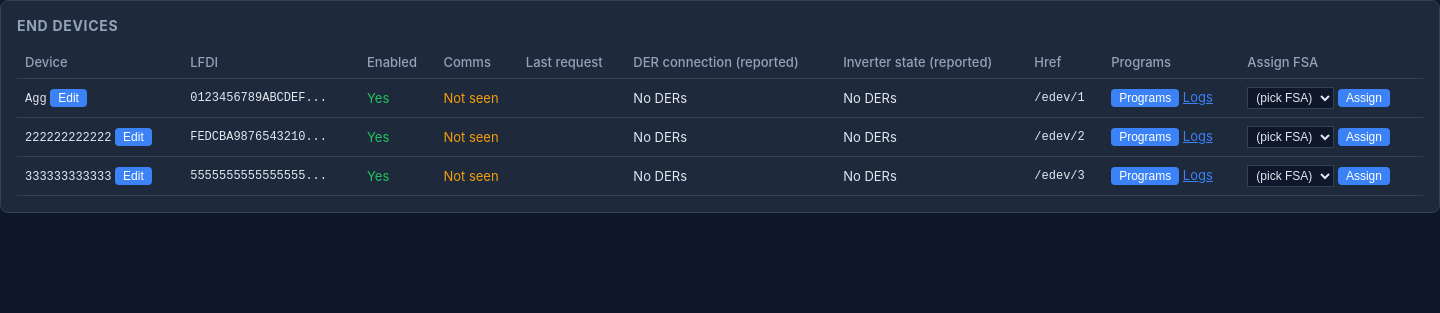
Test: Devices tab Edit kind and devices › names a refused pair by its device and keeps the saved kind
Click the button "Edit" next to "Agg": (69, 98) [50,89,87,107]
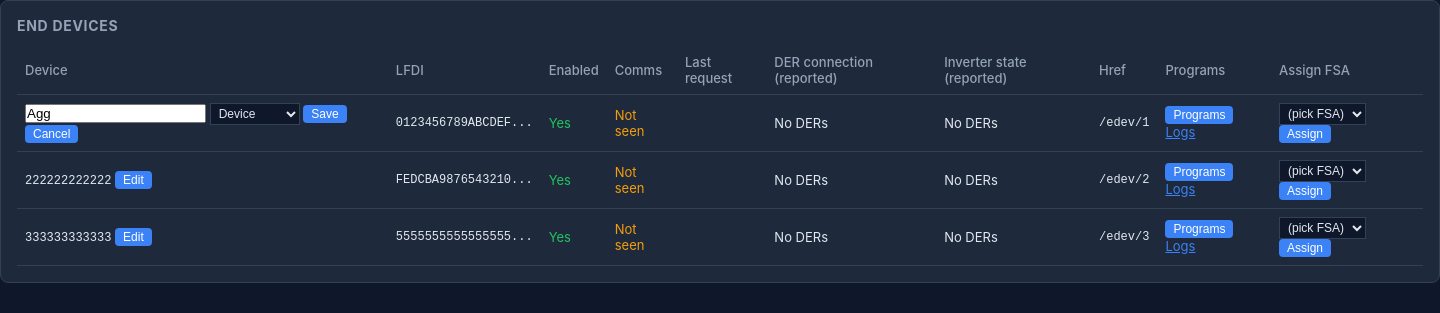
Select "Aggregator" in the dropdown with test id "device-kind-select": (255, 114) [210,103,300,125]
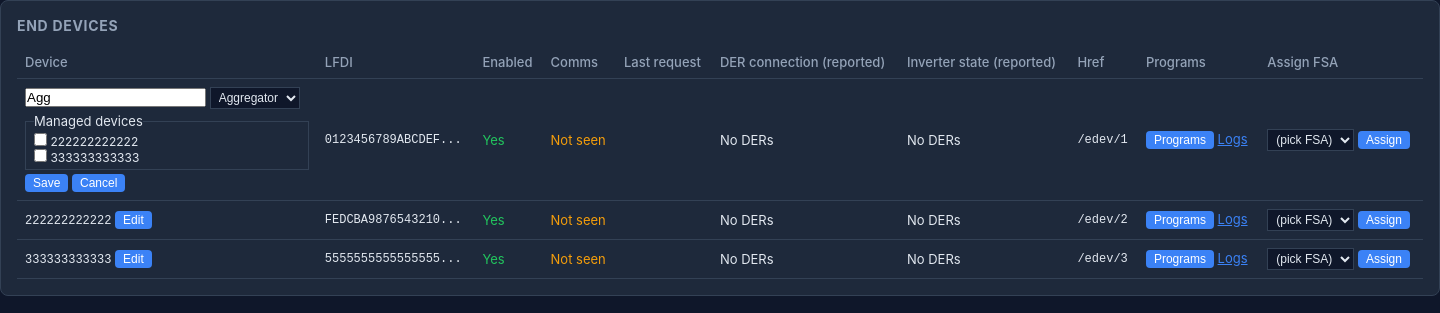
Expected: the number of checkboxes with test id "device-picker-option" is 2
Click the checkbox labelled "222222222222": (40, 140) [34,133,47,146]
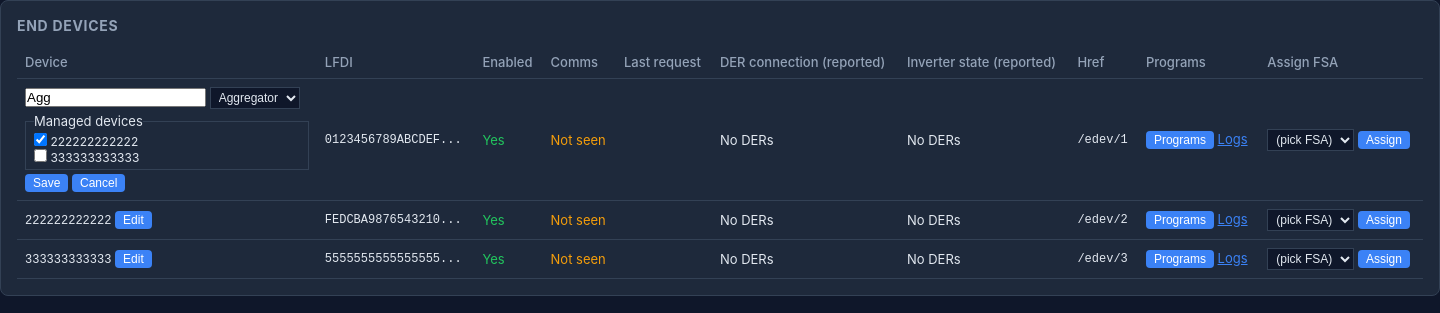
Click the button with test id "device-name-save": (47, 183) [25,174,68,192]
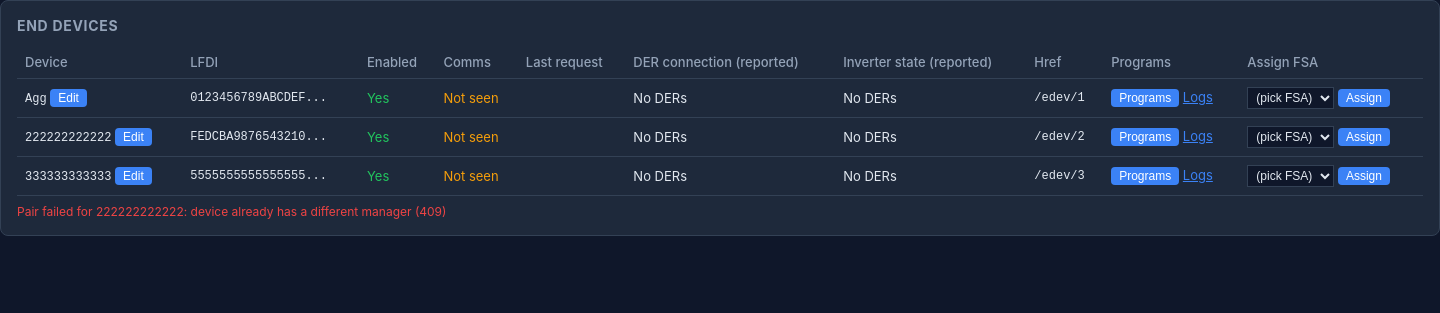
Expected: the message with test id "device-pair-error" reads "Pair failed for 222222222222: device already has a different manager (409)", [17,204,446,219]
